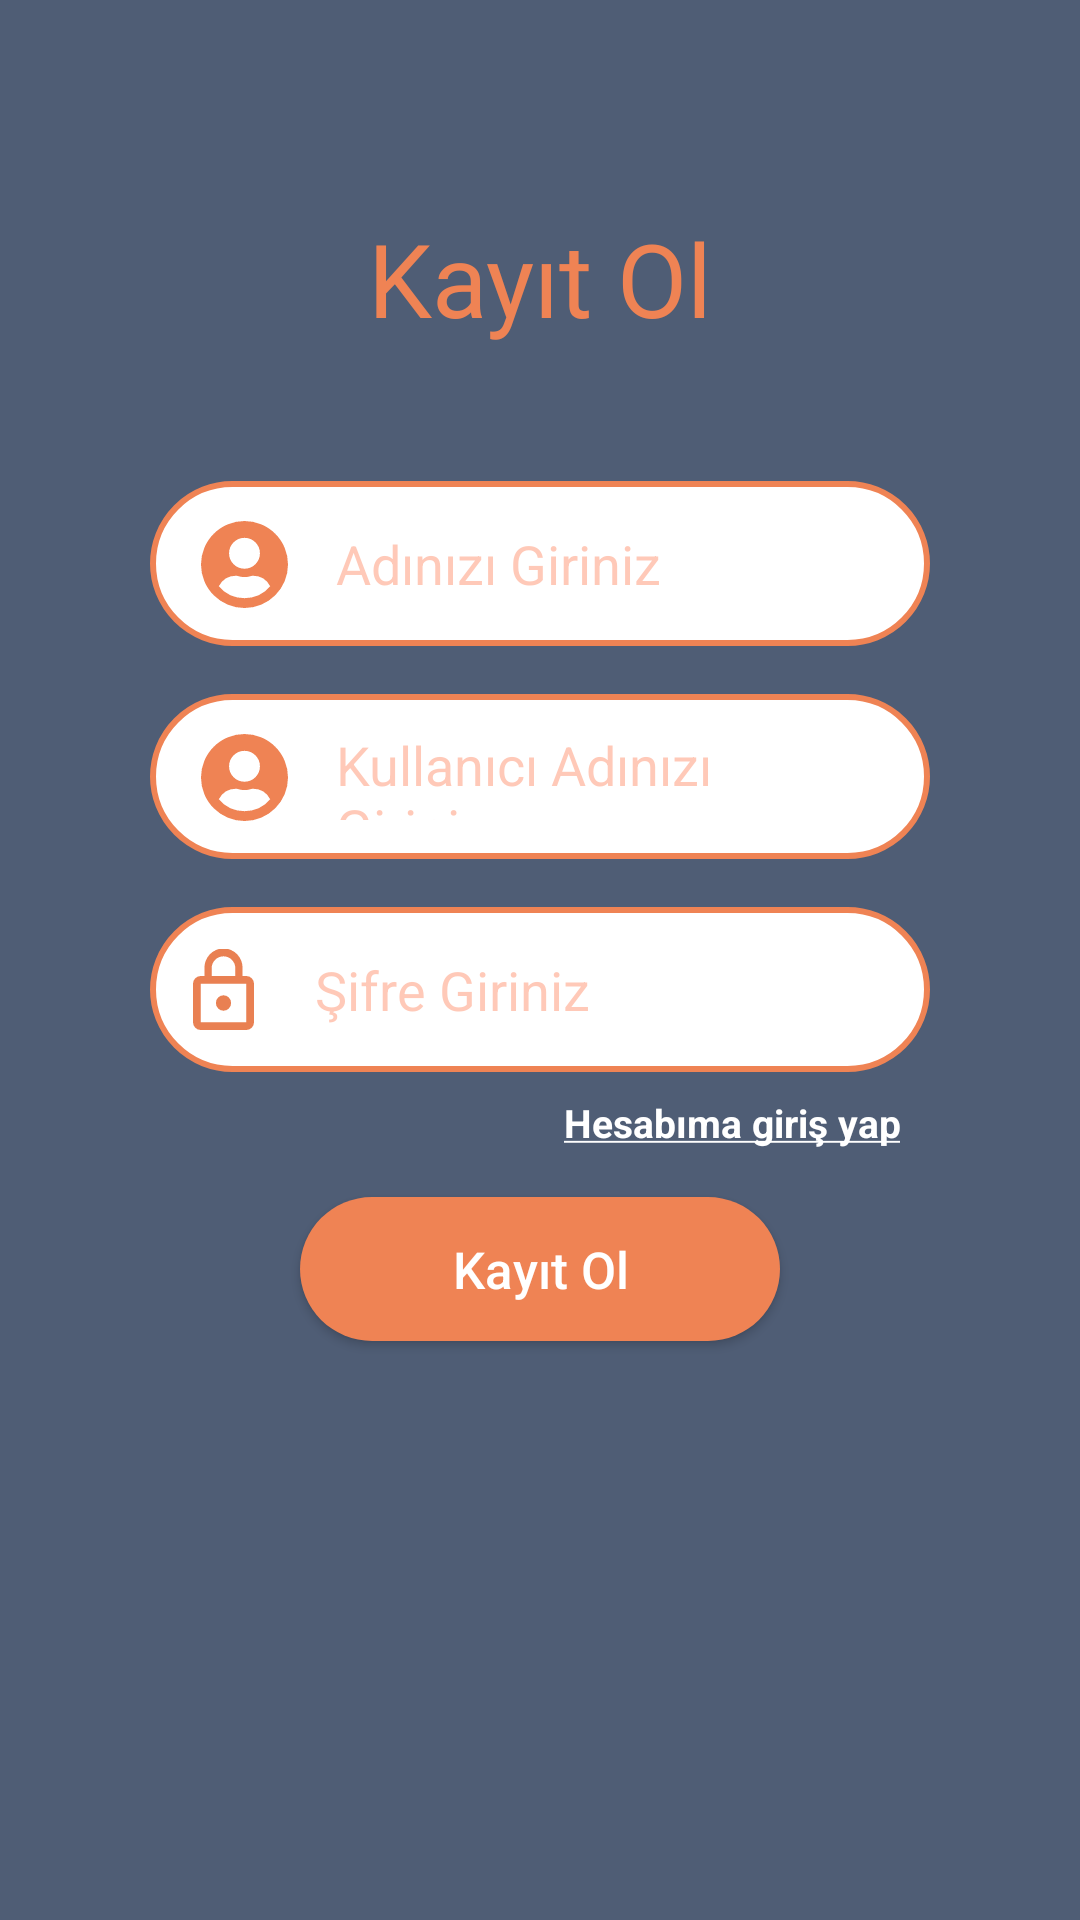

Where to tap for icons on this 1080px x 1920px app screen, as (x,y):
lock: (223,989)
